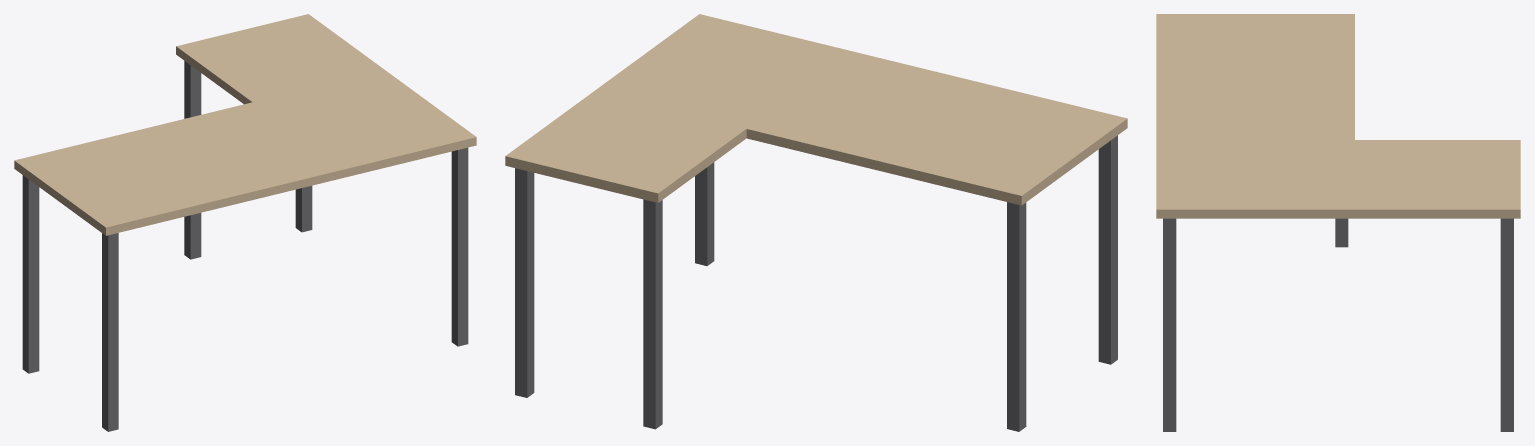
Rendered from desk_l.glb.
3 renders of one model, left to right at view 1: azimuth 30°, elevation 25°; view 2: azimuth 150°, elevation 25°; view 3: azimuth 270°, elevation 25°, orthographic. The views are drawn at different scales.
Visible parts, largest first — view 1: desk_l; view 2: desk_l; view 3: desk_l.
Boxes of the visible parts, x1=… form: desk_l: x1=14, y1=14, x2=476, y2=431; desk_l: x1=505, y1=14, x2=1127, y2=431; desk_l: x1=1156, y1=14, x2=1520, y2=431.
Size of the model in its own units: 1.4 by 0.75 by 1.1.
